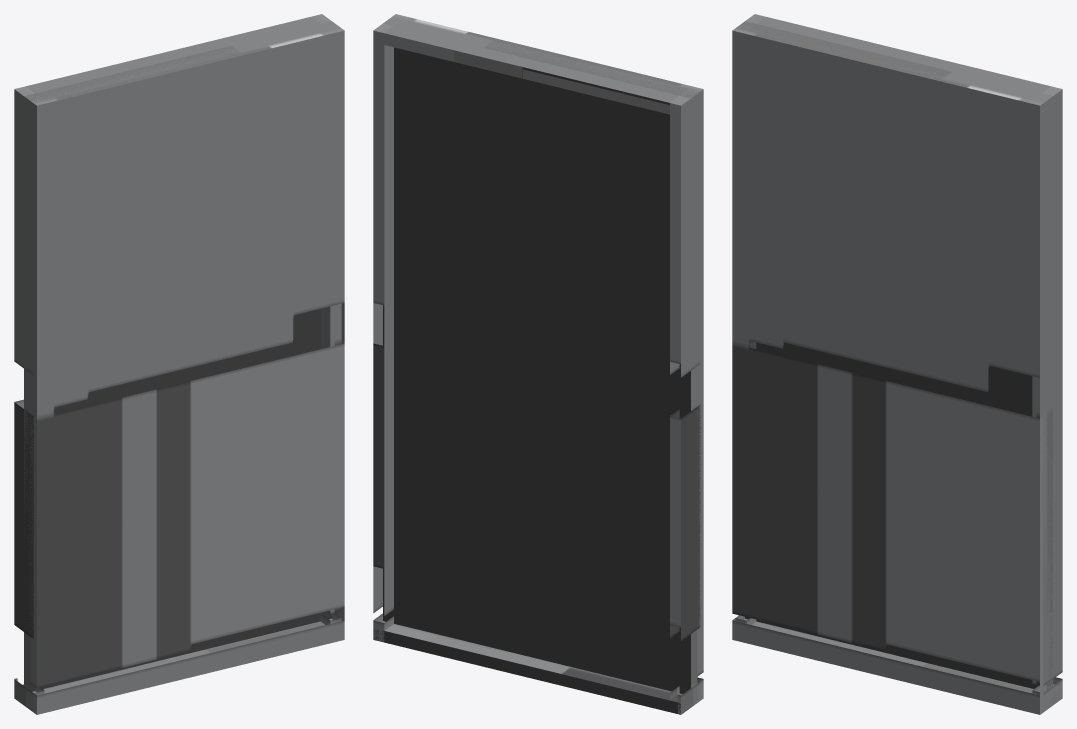
3 renders of one model, left to right at view 1: azimuth 30°, elevation 25°; view 2: azimuth 150°, elevation 25°; view 3: azimuth 330°, elevation 25°, orthographic.
Bounding box in the file's own units: 0.55 × 1.04 × 0.07.
